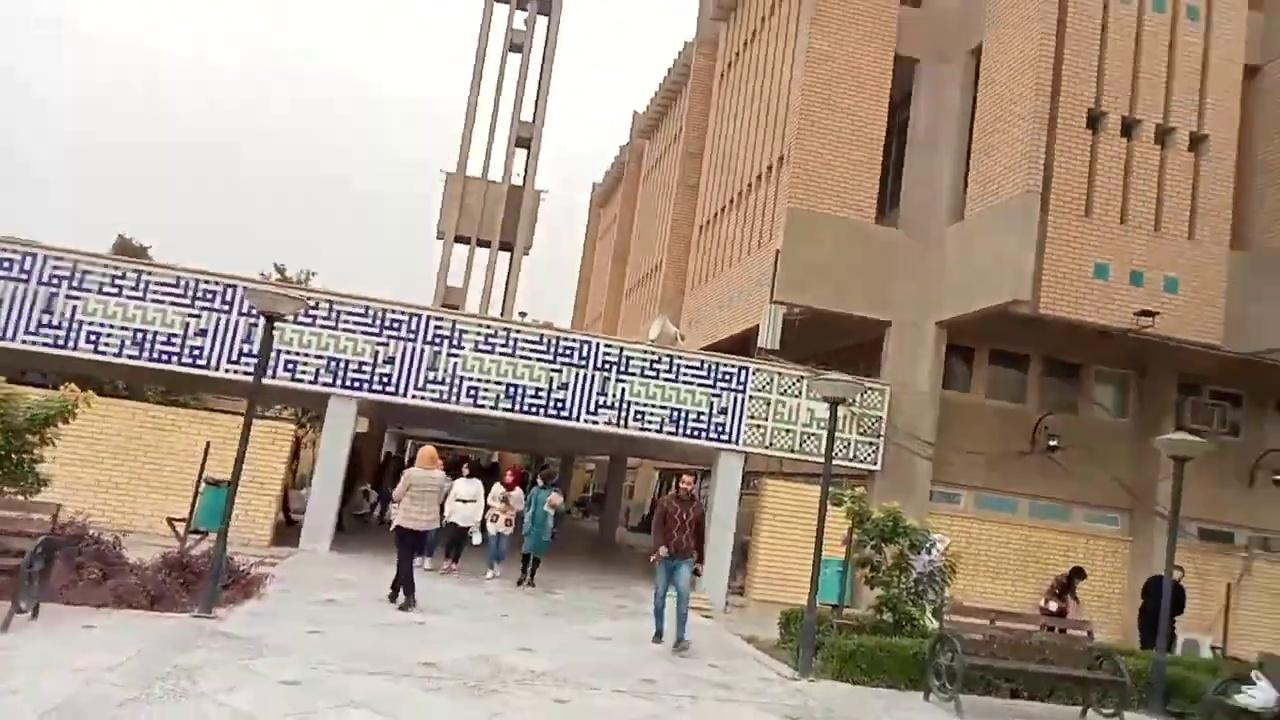person: (387, 444, 452, 611), (648, 472, 705, 651), (516, 465, 564, 588), (1137, 563, 1186, 653), (1038, 564, 1092, 639)
tree: (826, 477, 958, 638), (0, 376, 98, 501), (257, 261, 317, 288), (108, 231, 154, 261)
